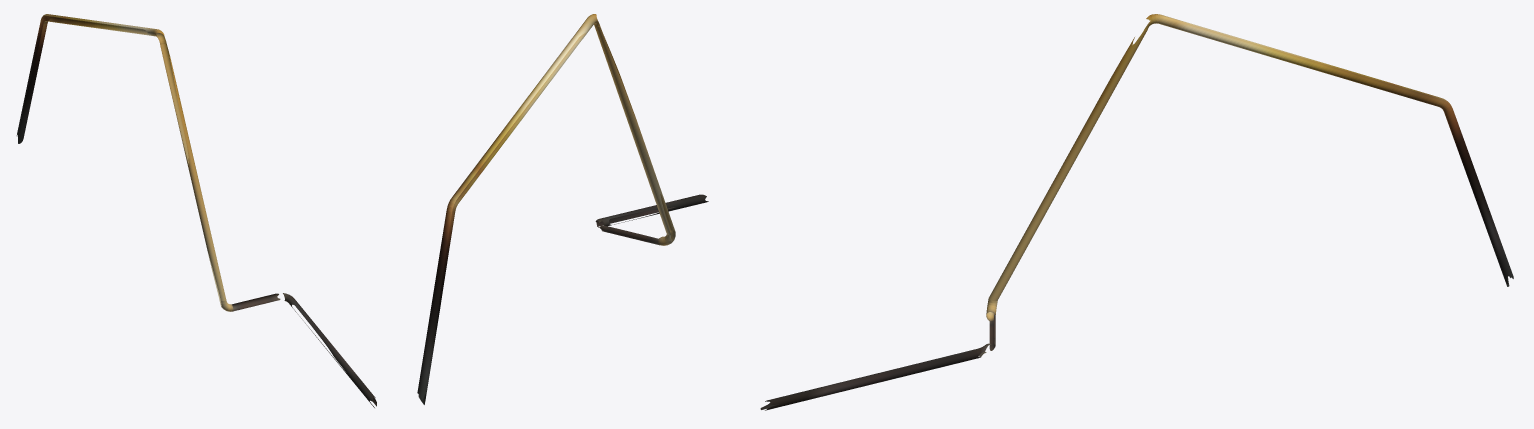
File: wire1.fbx
The picture shows the model from 3 angles, left to right: view 1: azimuth 30°, elevation 25°; view 2: azimuth 150°, elevation 25°; view 3: azimuth 270°, elevation 25°; orthographic projection. The views are drawn at different scales.
Visible parts, largest first — view 1: wire1; view 2: wire1; view 3: wire1.
Part boxes in pixels (x1=…): wire1: x1=16, y1=14, x2=376, y2=407; wire1: x1=417, y1=14, x2=708, y2=404; wire1: x1=760, y1=14, x2=1513, y2=410.
Size of the model in its own units: 0.8751 by 3.4 by 6.62.
1 material, 1 textured.
